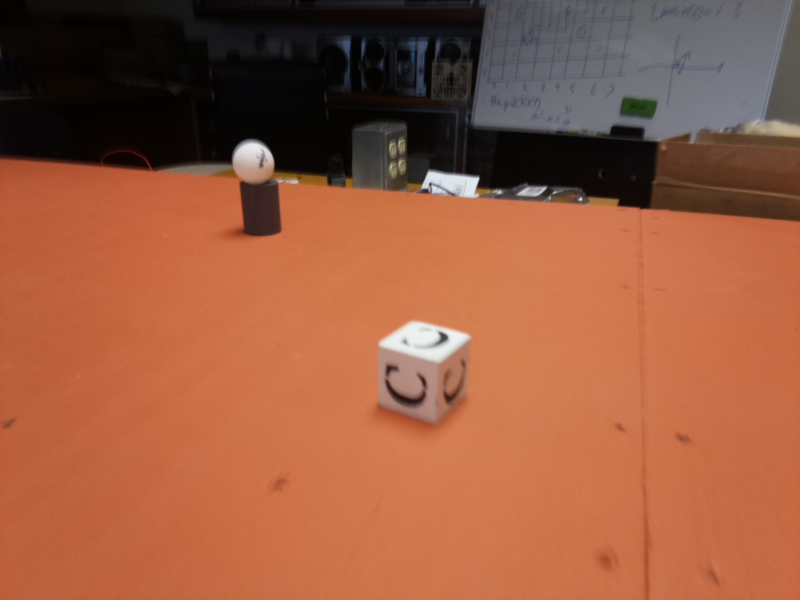blockC: (373, 313, 480, 426)
obstacle: (230, 134, 287, 246)
